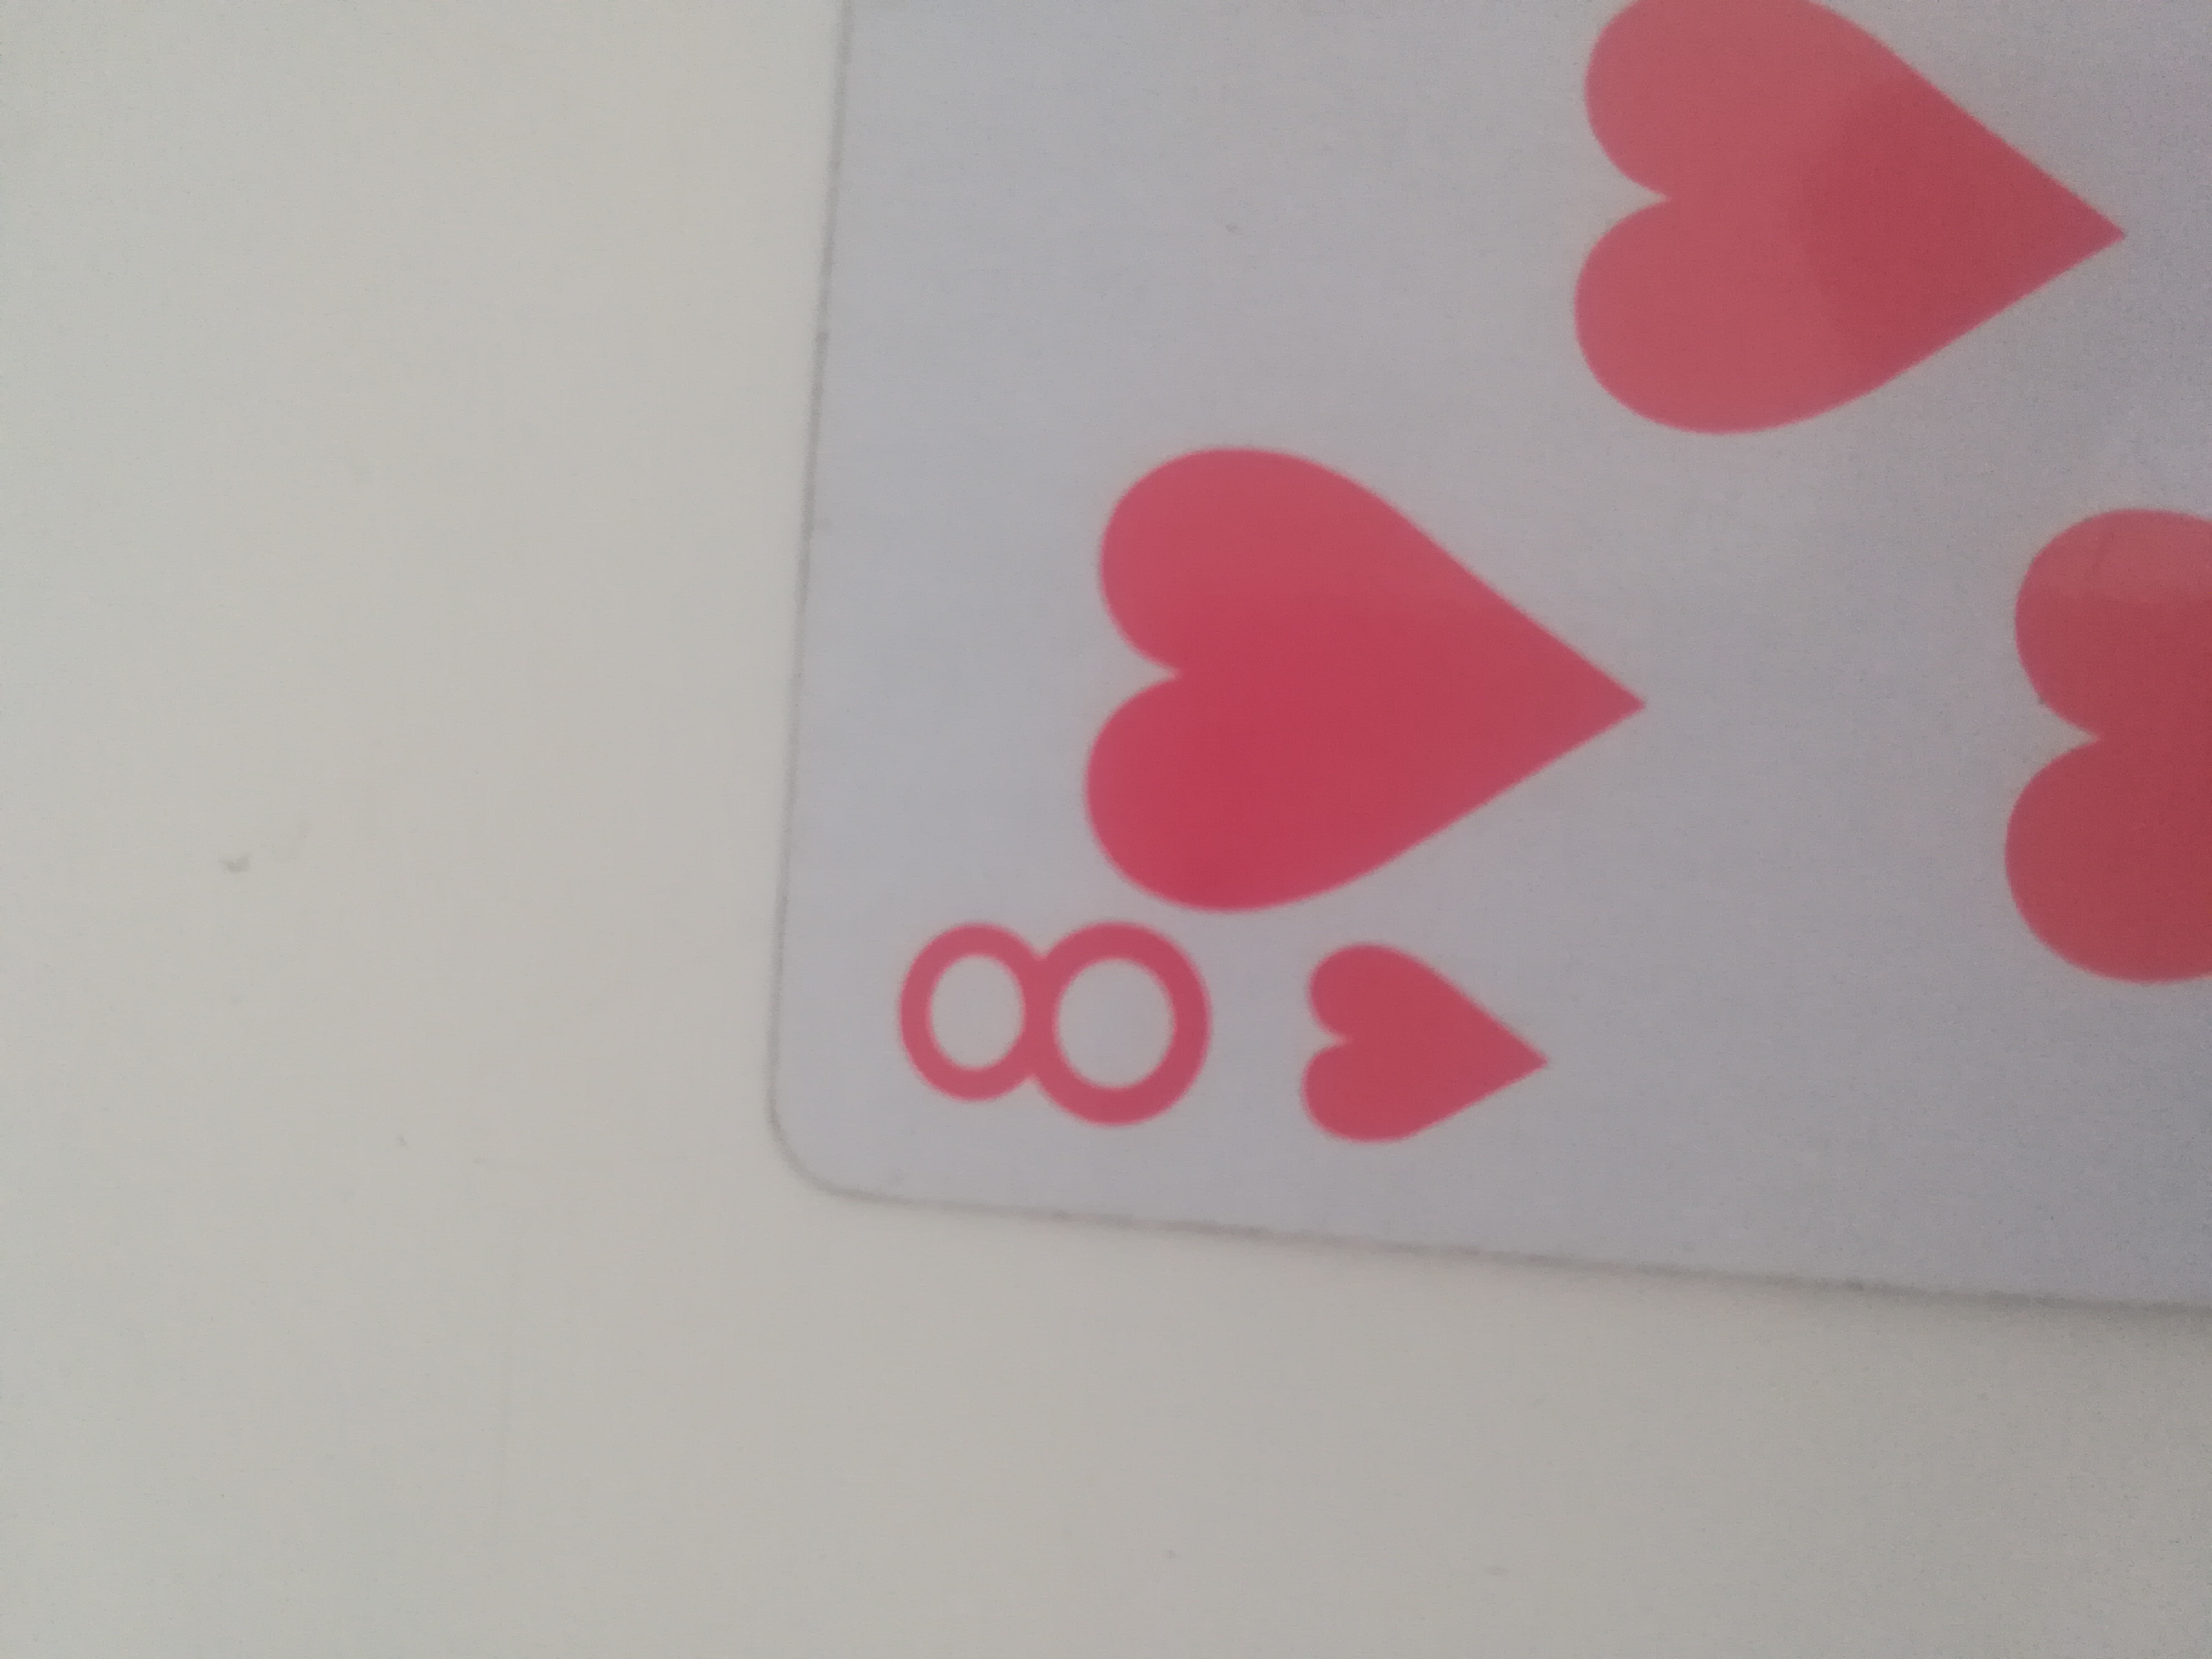8H: (784, 0, 2200, 1345)
